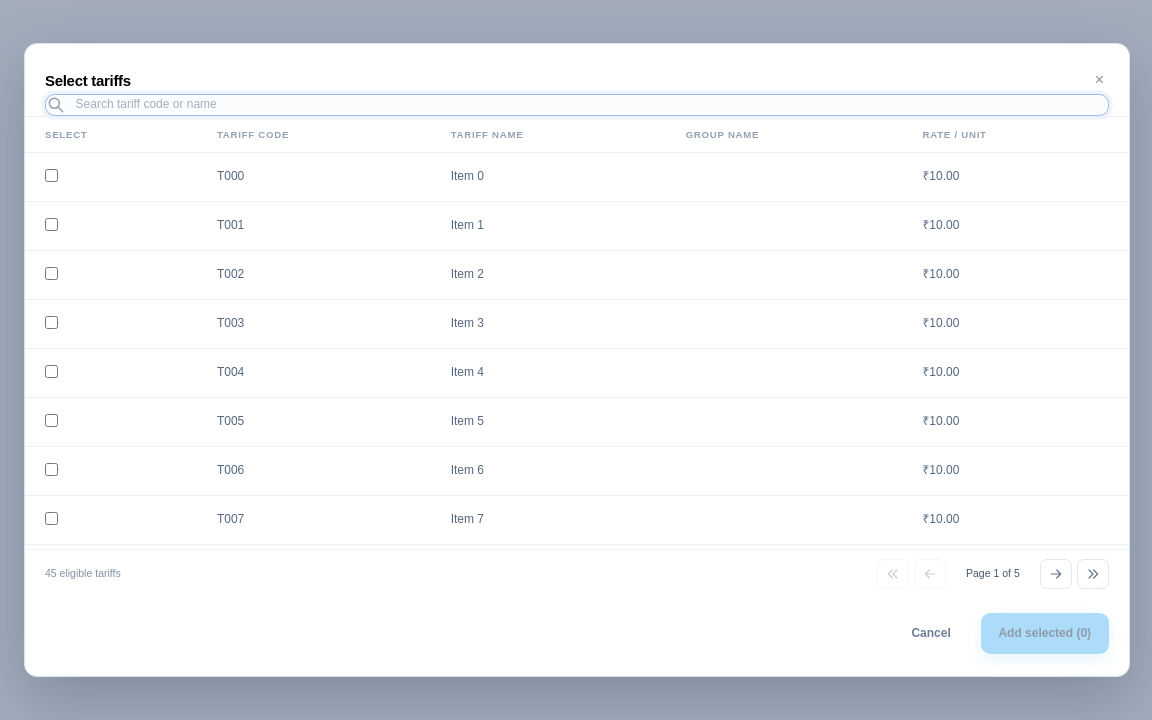
Test: rapid cached paging immediately shows the latest page without loading or losing pagination
The width and height of the screenshot is (1152, 720).
Expected: the column heading "Tariff Code" is shown, left=200, top=117, right=434, bottom=153
Expected: the column heading "Group Name" is shown, left=669, top=117, right=906, bottom=153
Click the button named "Next page". click: (1056, 574)
box: left=1040, top=558, right=1072, bottom=588
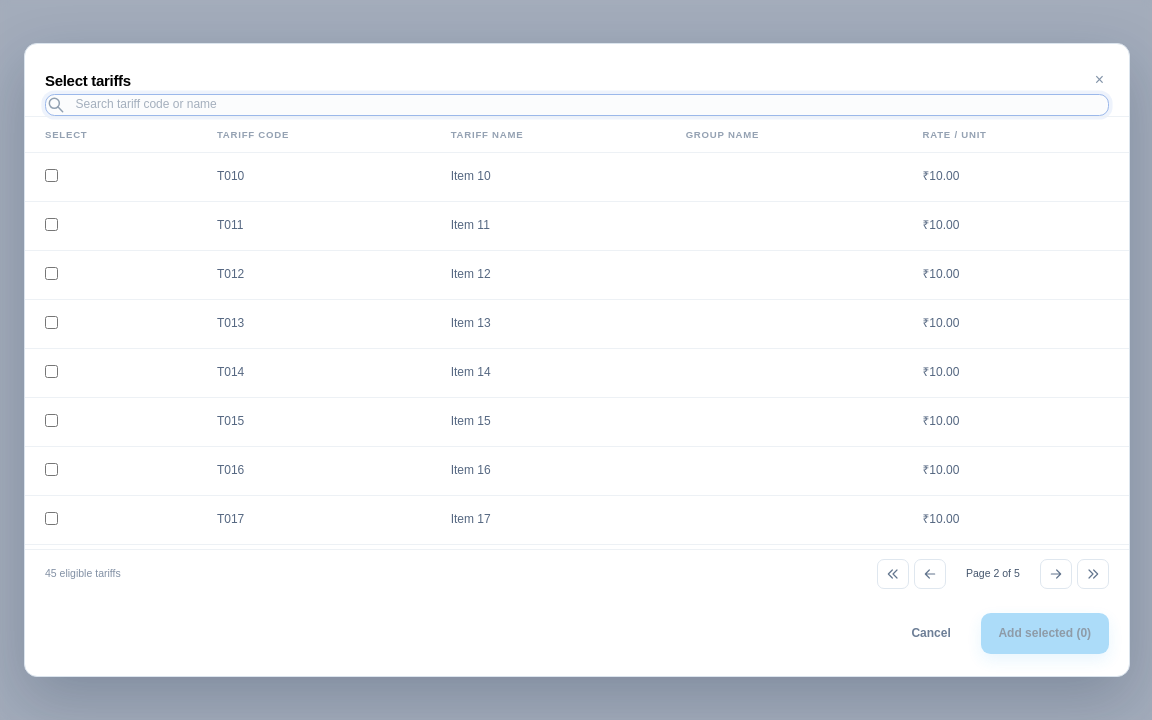
Click the button named "Next page". click: (1056, 574)
box: left=1040, top=558, right=1072, bottom=588
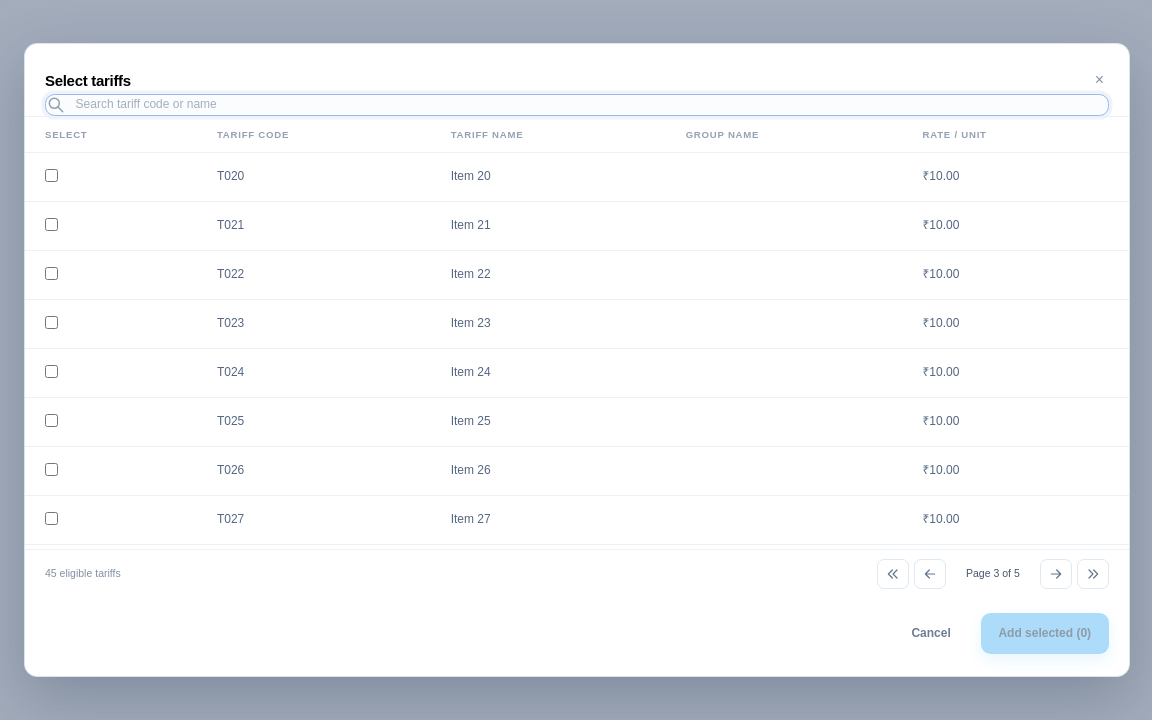
Click the button named "Next page". click: (1056, 574)
box: left=1040, top=558, right=1072, bottom=588
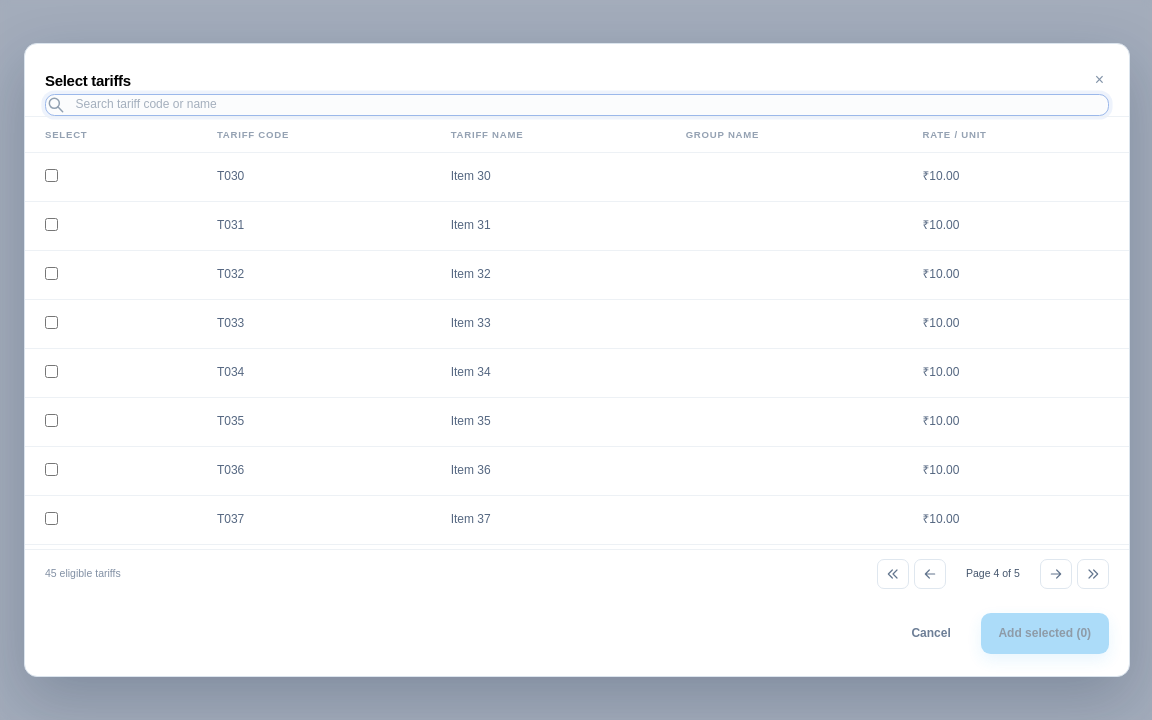
Expected: the text "45 eligible tariffs" is shown, left=45, top=568, right=121, bottom=580
Now the text "Item 30" is shown, box left=434, top=153, right=669, bottom=202
